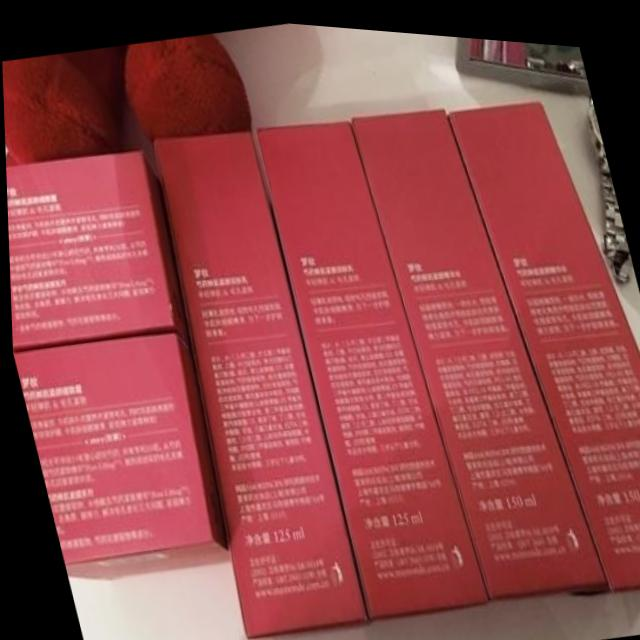box: (349, 99, 602, 592), (252, 116, 486, 613), (153, 125, 365, 637), (448, 92, 640, 584), (10, 329, 228, 578), (5, 148, 190, 349)
